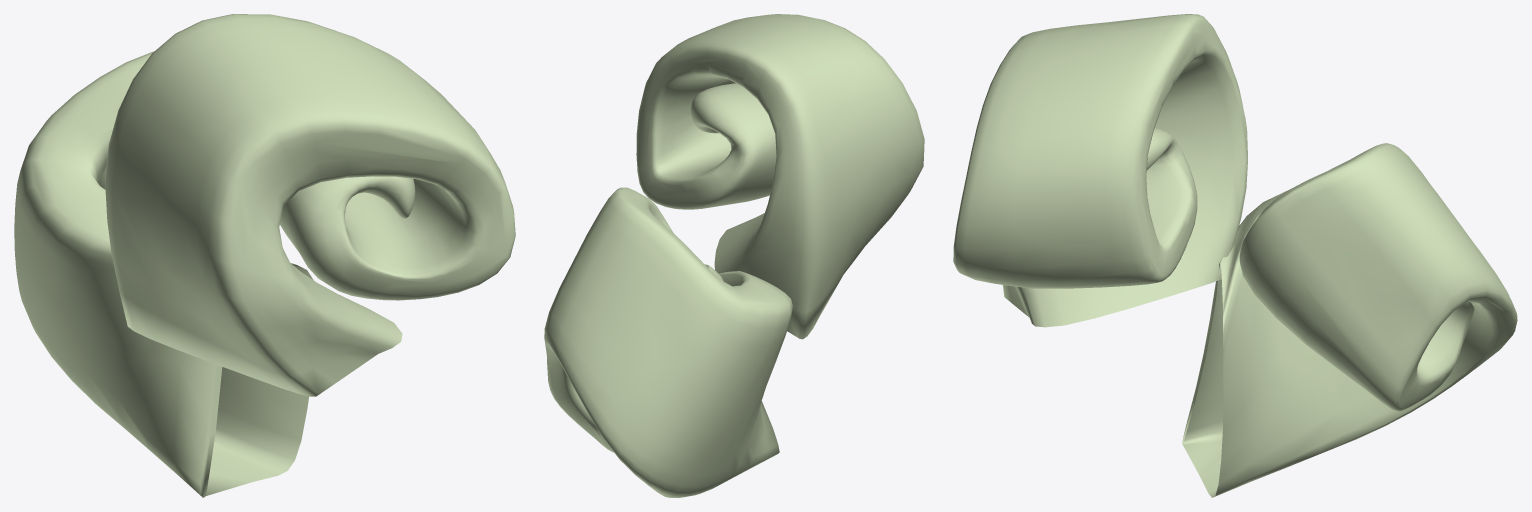
File: Mane_19.fbx
3 renders of one model, left to right at view 1: azimuth 30°, elevation 25°; view 2: azimuth 150°, elevation 25°; view 3: azimuth 270°, elevation 25°, orthographic. The views are drawn at different scales.
Parts seen in each view (by area): view 1: Mane_19; view 2: Mane_19; view 3: Mane_19.
Part boxes in pixels (x1,y1,x2,y2): Mane_19: [14, 14, 515, 497]; Mane_19: [544, 14, 924, 497]; Mane_19: [953, 14, 1517, 497].
Size of the model in its own units: 107 by 174 by 200.
